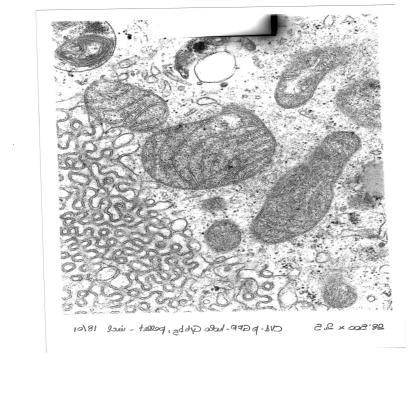mitochondria: (246, 124, 369, 245), (127, 103, 291, 190), (67, 77, 180, 134), (265, 53, 341, 110), (195, 219, 247, 254), (326, 278, 362, 308)
